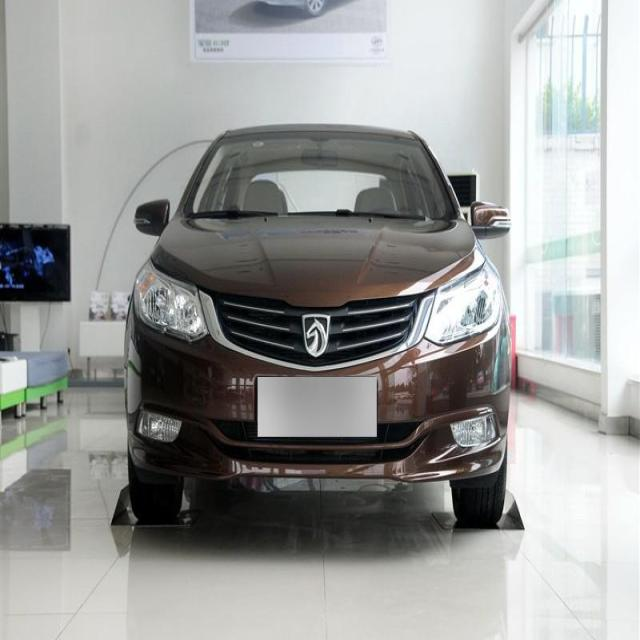front_bumper: (123, 306, 510, 480)
front_glass: (183, 131, 461, 218)
front_left_side_light: (423, 256, 502, 347)
front_left_side_mirror: (468, 200, 513, 239)
front_right_side_light: (131, 256, 211, 343)
front_right_side_mirror: (132, 197, 170, 240)
